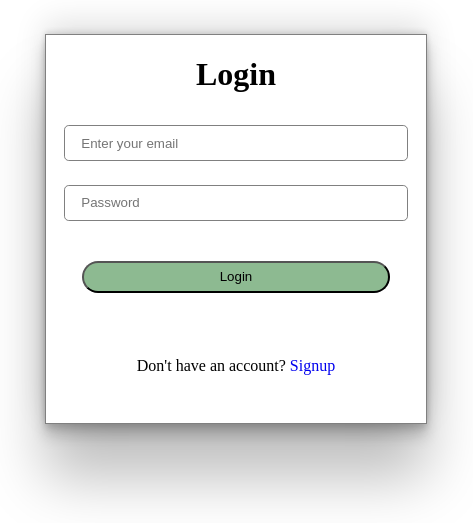
Scenario: testing login component › testing inputs
Type "rutik@gmail.com" into the field with placeholder "Enter your email".
click(236, 143); type("rutik@gmail.com")  # box [64,125,408,161]
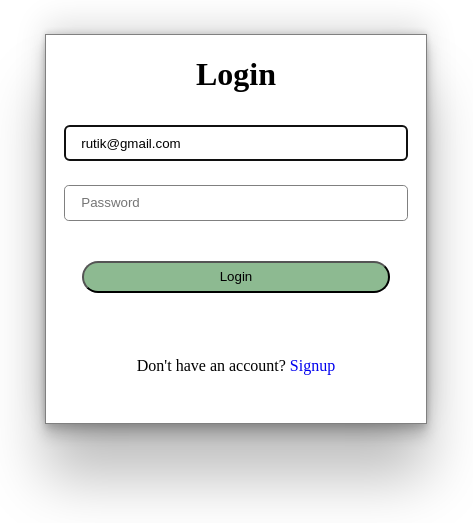
Type "rutik123" into the password field with placeholder "Password".
click(236, 203); type("rutik123")  # box [64,185,408,221]
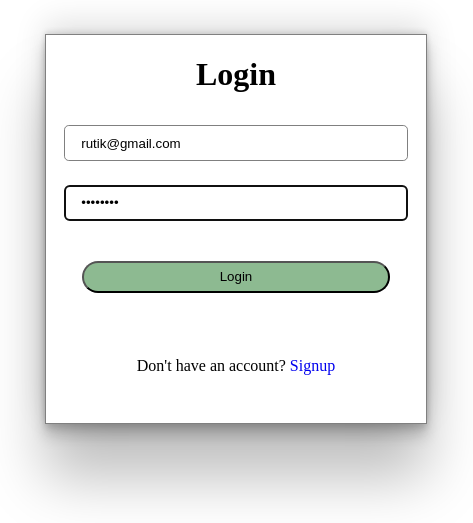
Click the button.
click(236, 277)  # box [82,261,390,293]
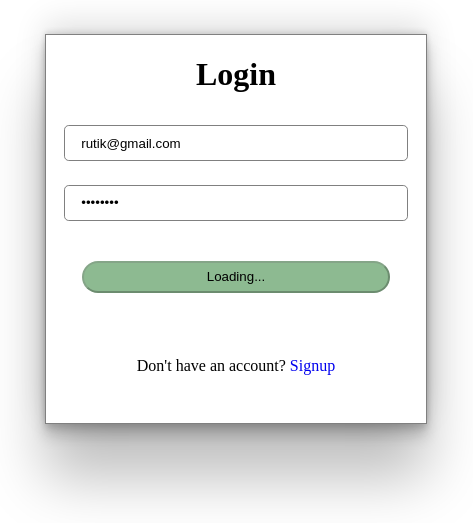
expect the button "Loading..." is shown: met, box [82,261,390,293]
